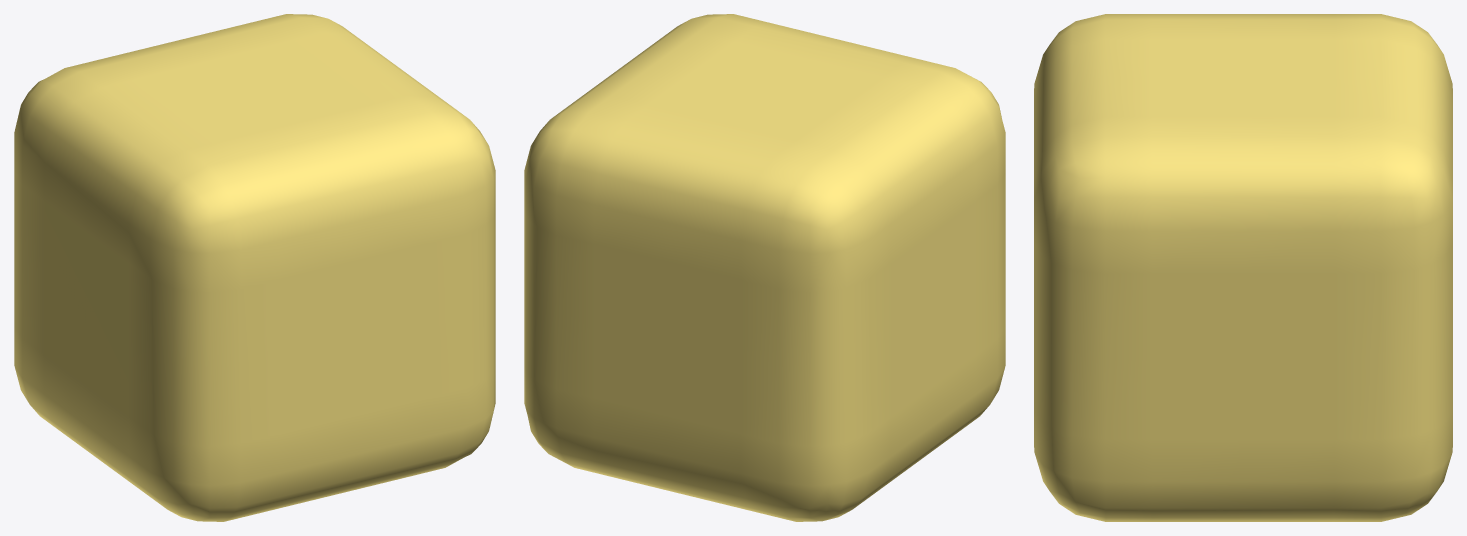
File: DiceBlock.glb
3 renders of one model, left to right at view 1: azimuth 30°, elevation 25°; view 2: azimuth 150°, elevation 25°; view 3: azimuth 270°, elevation 25°, orthographic. The views are drawn at different scales.
Parts seen in each view (by area): view 1: Block; view 2: Block; view 3: Block.
Boxes of the visible parts, x1=… form: Block: x1=14, y1=14, x2=495, y2=521; Block: x1=524, y1=14, x2=1005, y2=521; Block: x1=1034, y1=14, x2=1452, y2=521.
Bounding box in the file's own units: 4 × 4 × 4.
